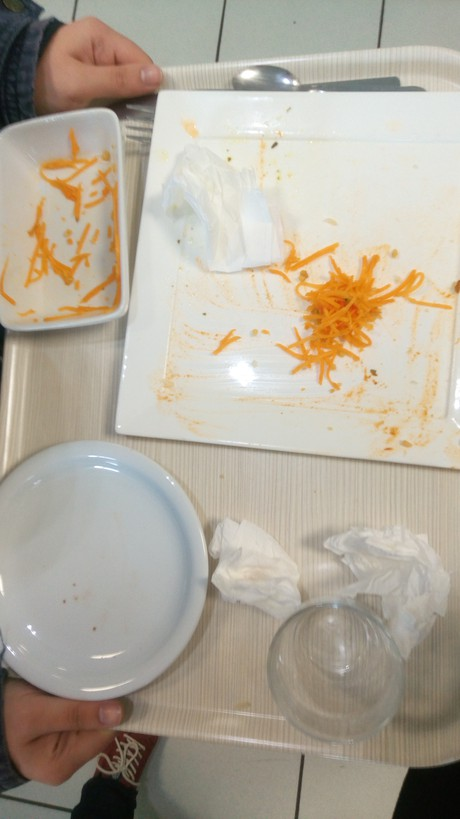cup: (273, 601, 430, 742)
cutlery: (226, 60, 421, 100)
orga: (297, 259, 410, 377)
trash: (337, 520, 449, 658), (170, 155, 285, 272), (210, 511, 303, 627)
